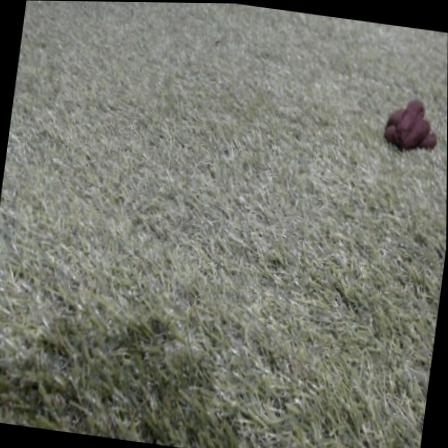dog-poop: (377, 90, 446, 158)
